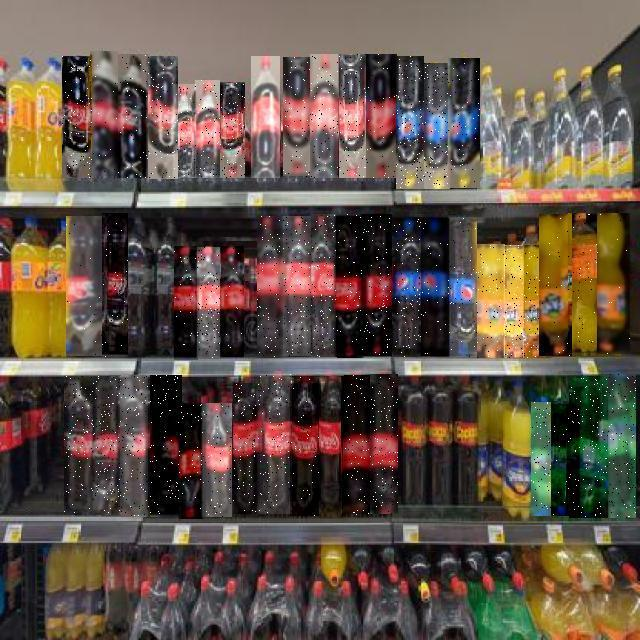Drinks: (569, 376, 608, 518), (601, 374, 637, 518), (67, 216, 103, 356), (598, 214, 632, 356), (539, 215, 572, 357), (568, 214, 601, 356), (150, 375, 182, 517), (260, 375, 292, 515), (64, 376, 94, 515), (448, 58, 480, 188), (290, 376, 319, 516), (338, 214, 366, 358), (421, 218, 450, 356), (258, 216, 286, 358), (365, 215, 393, 357), (122, 375, 150, 517), (370, 375, 398, 515), (285, 216, 313, 356), (393, 218, 421, 357), (449, 218, 477, 357), (94, 376, 122, 515), (366, 54, 397, 178), (147, 56, 178, 179), (103, 214, 129, 358), (396, 56, 424, 189), (118, 54, 148, 178), (320, 376, 346, 519), (312, 214, 338, 357), (234, 383, 262, 514), (62, 56, 92, 178), (344, 376, 370, 516), (251, 56, 280, 178), (90, 52, 118, 178), (311, 54, 339, 178), (339, 54, 367, 178), (283, 58, 311, 178), (424, 63, 450, 189), (477, 244, 505, 358), (523, 244, 551, 358), (205, 403, 233, 517), (552, 404, 580, 516), (180, 403, 206, 519), (174, 246, 198, 360), (197, 247, 220, 358), (221, 246, 244, 357), (195, 80, 220, 178), (220, 82, 245, 178), (531, 402, 551, 516), (504, 245, 524, 358), (173, 85, 196, 179)
